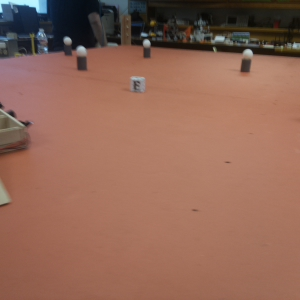blockE: (130, 76, 146, 94)
corner: (120, 16, 130, 49)
obstacle: (239, 49, 253, 75), (76, 47, 87, 72), (142, 38, 152, 61), (63, 37, 72, 57)
side: (1, 100, 39, 160)
slope: (1, 176, 13, 212)
